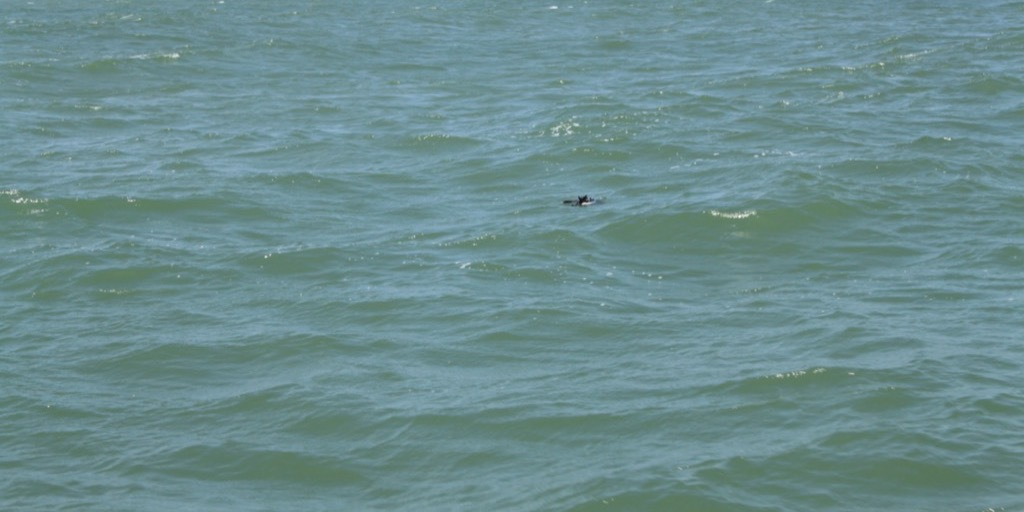plastic: (558, 192, 616, 217)
